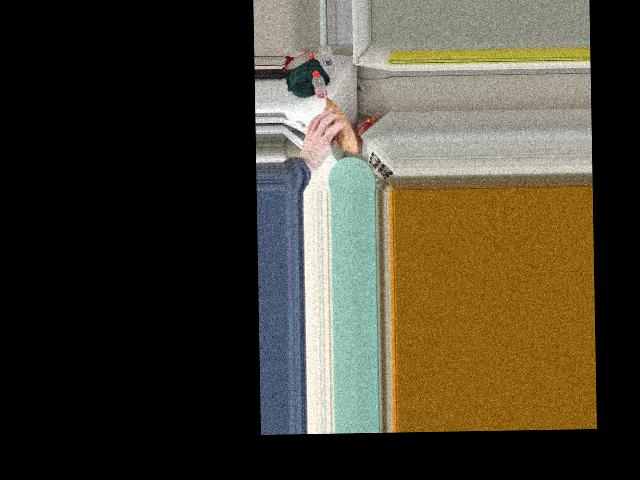sweet_potato: (314, 100, 356, 144)
